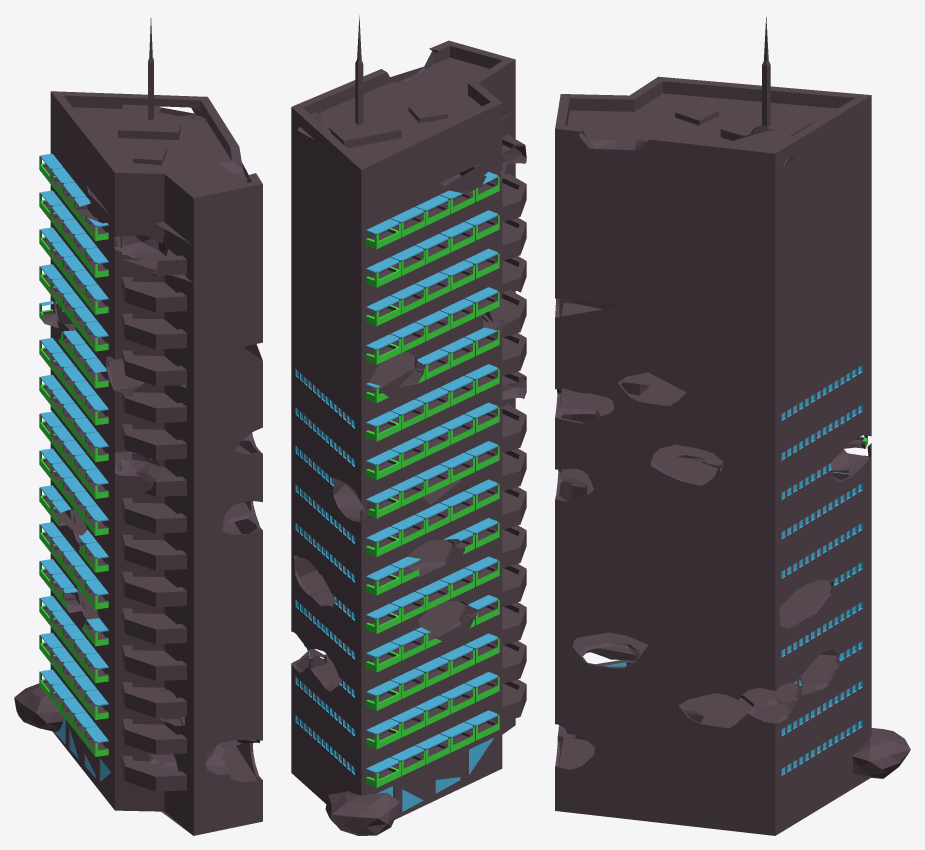
File: buildings11.fbx
3 views of the same model, side by side, from view 1: azimuth 30°, elevation 25°; view 2: azimuth 150°, elevation 25°; view 3: azimuth 270°, elevation 25° (orthographic). The views are drawn at different scales.
Parts seen in each view (by area): view 1: 7; view 2: 7; view 3: 7.
Boxes of the visible parts, x1=… form: 7: x1=14, y1=18, x2=262, y2=835; 7: x1=291, y1=15, x2=526, y2=835; 7: x1=555, y1=17, x2=910, y2=835.
Size of the model in its own units: 2410 by 10897 by 4447.
